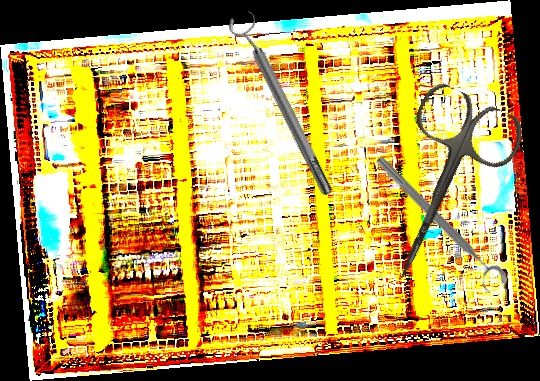Fixation Ring: (225, 7, 341, 202), (365, 152, 511, 298)
Iris Scissors: (351, 78, 530, 300)
